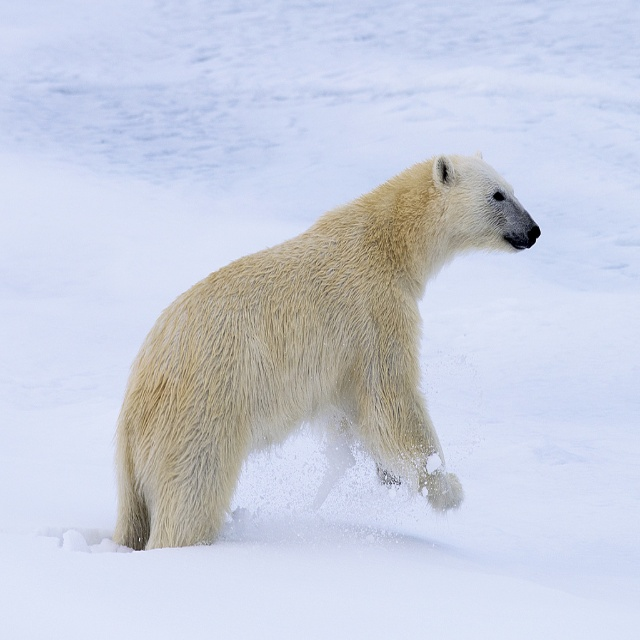Polar bear: (106, 147, 542, 554)
